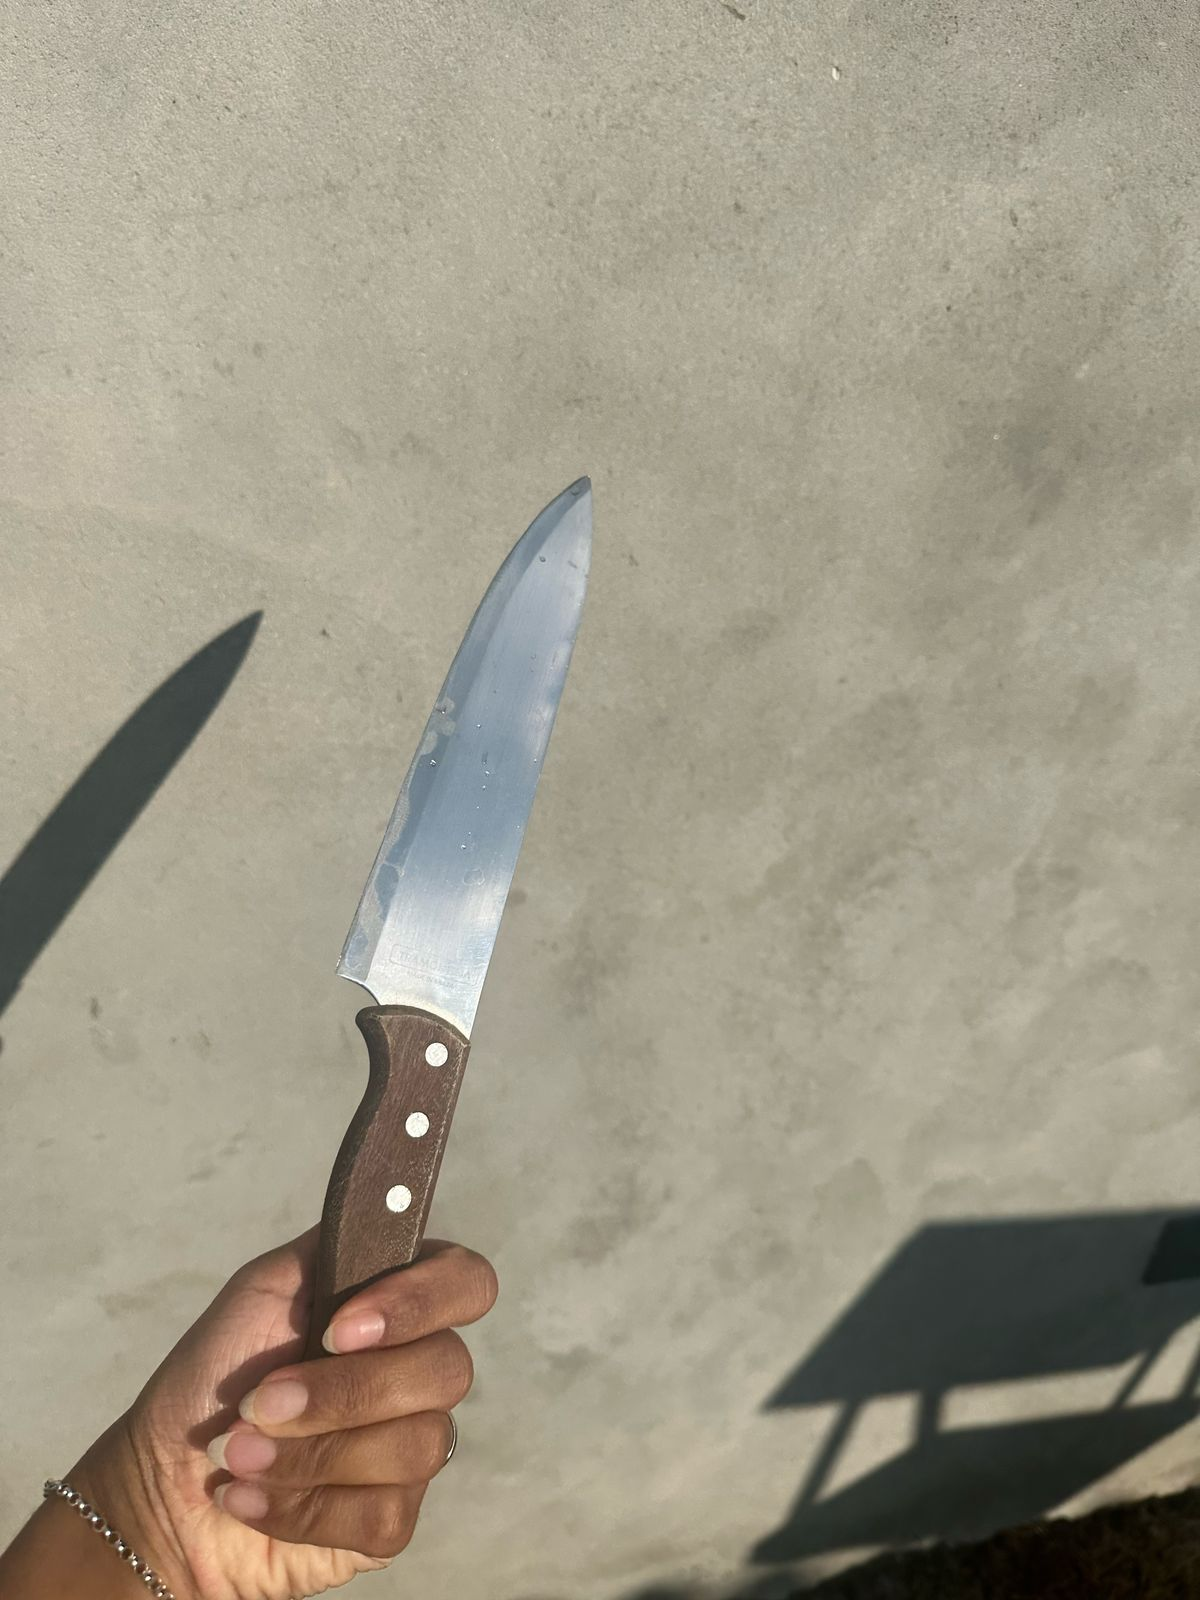faca: (305, 462, 616, 1216)
